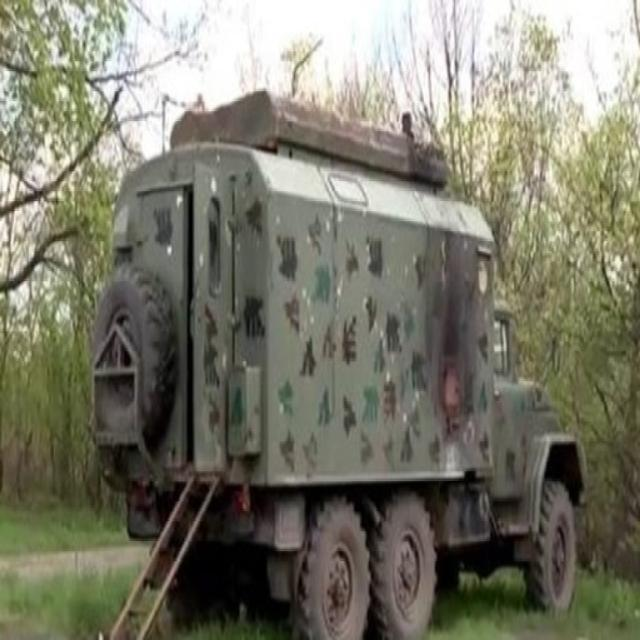TRUCK: (88, 78, 588, 638)
